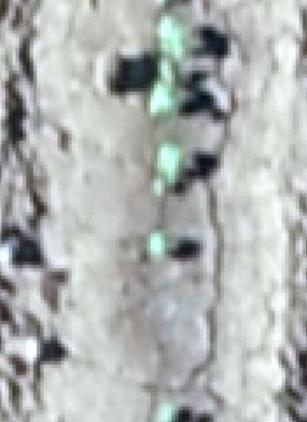cotton: (158, 18, 185, 56), (156, 145, 179, 182), (150, 84, 175, 113), (157, 401, 178, 422), (149, 232, 167, 255), (159, 61, 175, 86)
